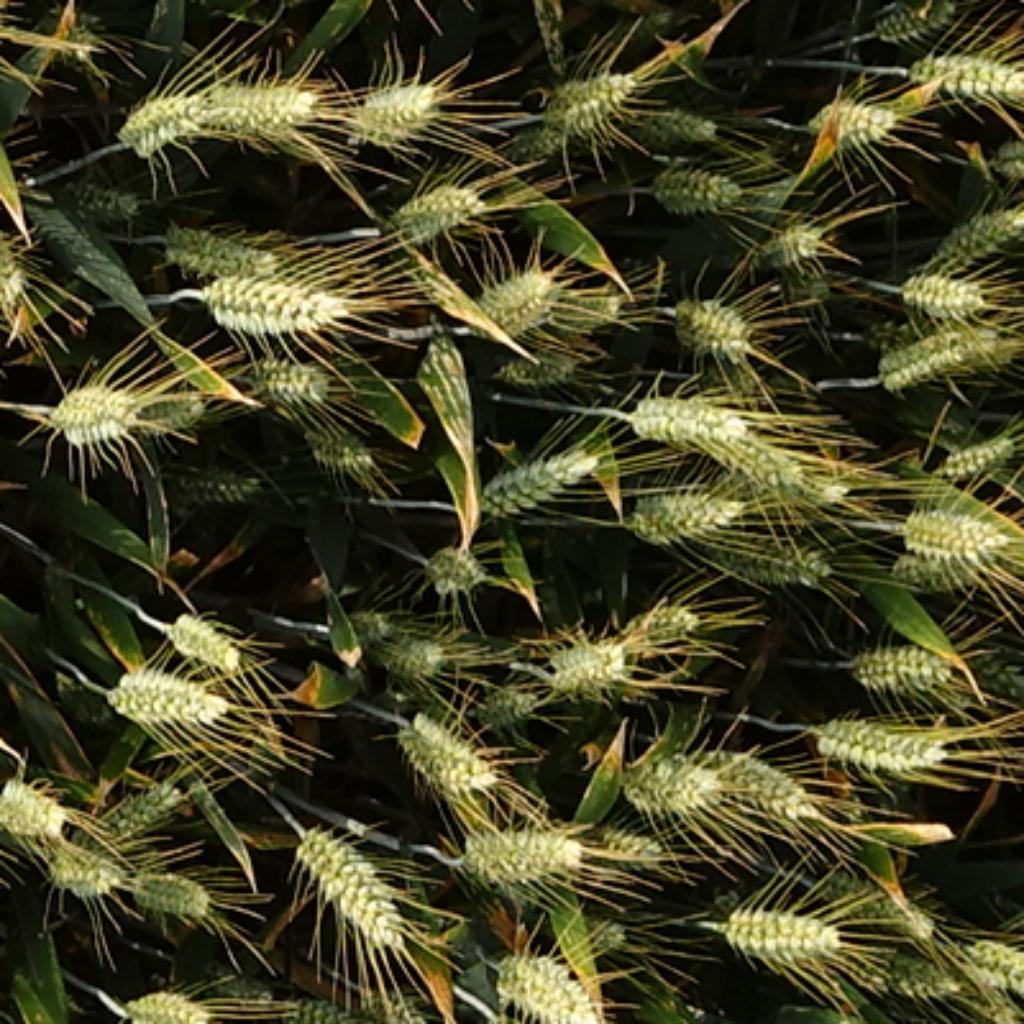0-0: (284, 806, 409, 944), (194, 261, 363, 337), (389, 698, 501, 806), (691, 734, 816, 821), (813, 705, 964, 777), (716, 890, 860, 965), (693, 414, 819, 499), (471, 430, 601, 512), (862, 322, 1013, 391), (609, 734, 739, 814), (619, 378, 765, 448), (497, 938, 615, 1024), (816, 860, 944, 939), (465, 821, 599, 896), (721, 448, 883, 509), (196, 65, 329, 139), (698, 514, 834, 586), (104, 660, 232, 734), (890, 491, 1008, 568), (532, 53, 637, 135), (115, 74, 225, 151), (40, 377, 151, 453), (622, 471, 744, 537), (158, 215, 289, 276), (343, 66, 448, 138), (839, 627, 957, 691), (906, 38, 1024, 102), (468, 250, 565, 327), (547, 629, 645, 701), (386, 168, 486, 238), (53, 163, 156, 230), (663, 281, 757, 353), (808, 86, 903, 155), (926, 192, 1021, 261), (642, 151, 747, 212), (161, 453, 271, 509), (40, 821, 125, 893), (120, 852, 215, 916), (888, 547, 1003, 599), (168, 609, 258, 675), (99, 768, 189, 834), (245, 345, 337, 407), (299, 414, 384, 481), (540, 279, 640, 335), (0, 204, 40, 343), (861, 952, 962, 1006), (322, 593, 414, 652), (865, 0, 965, 53), (378, 624, 455, 691), (931, 419, 1018, 476), (894, 269, 989, 320), (125, 373, 209, 430), (0, 768, 69, 837), (750, 207, 824, 271), (358, 975, 450, 1024), (634, 94, 721, 145), (121, 981, 223, 1024), (496, 343, 586, 391), (622, 586, 701, 640), (581, 819, 673, 865), (279, 975, 364, 1024), (419, 543, 490, 599), (944, 642, 1024, 691), (501, 102, 573, 156), (967, 925, 1024, 992), (203, 968, 280, 1017), (35, 6, 98, 64), (471, 673, 537, 724), (980, 135, 1024, 184)
